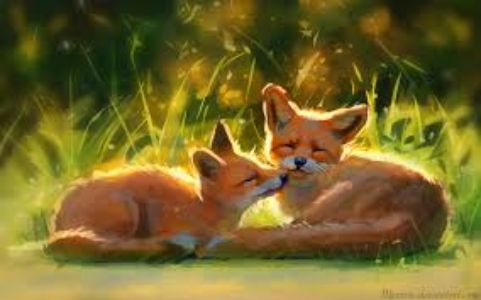fox: (275, 89, 445, 262), (53, 133, 283, 257)
